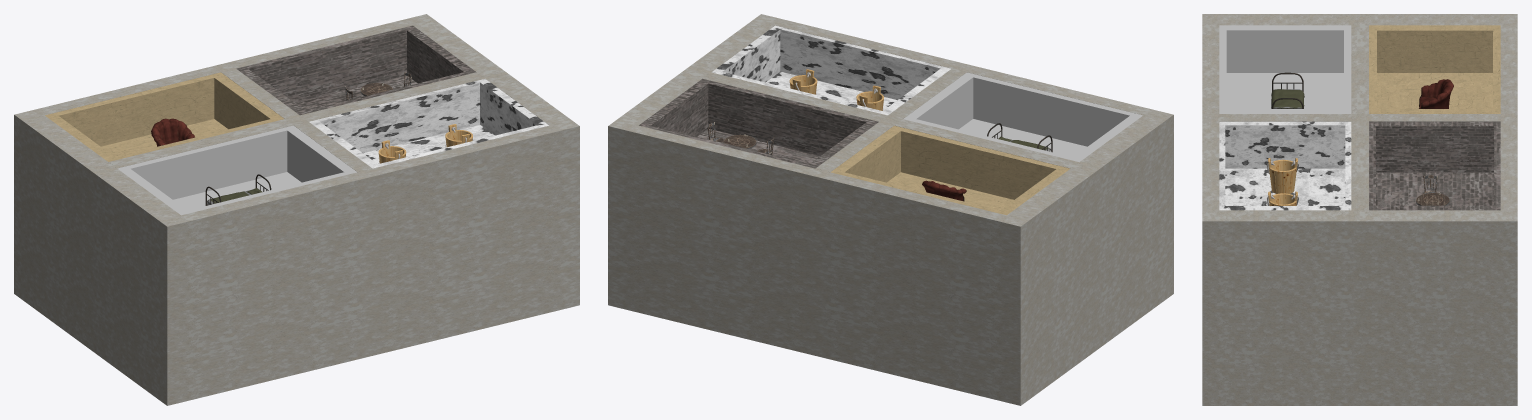
File: FULL-ROOM_23-10.gltf
3 views of the same model, side by side, from view 1: azimuth 30°, elevation 25°; view 2: azimuth 150°, elevation 25°; view 3: azimuth 270°, elevation 25° (orthographic). The views are drawn at different scales.
Visible parts, largest first — view 1: Cube, Cube.001, Cube.004, Cube.002, Cube.003, Sofa020_001_Sofa020_0, Object_0; view 2: Cube, Cube.004, Cube.001, Cube.003, Cube.002, Sofa020_001_Sofa020_0; view 3: Cube, Cube.001, Cube.004, Cube.003, Cube.002, WoodenBucket_WoodenBucket_0, Object_0, Sofa020_001_Sofa020_0, WoodenBucket_WoodenBucket_0.001, kolco_low_001__0.
Part boxes in pixels (left/top/right/bottom): Cube: left=14, top=14, right=579, bottom=405; Cube.001: left=236, top=25, right=475, bottom=115; Cube.004: left=117, top=125, right=356, bottom=215; Cube.002: left=309, top=78, right=548, bottom=168; Cube.003: left=45, top=72, right=283, bottom=161; Sofa020_001_Sofa020_0: left=151, top=118, right=194, bottom=146; Object_0: left=205, top=174, right=271, bottom=205; Cube: left=608, top=14, right=1173, bottom=405; Cube.004: left=903, top=72, right=1142, bottom=162; Cube.001: left=639, top=79, right=878, bottom=168; Cube.003: left=831, top=125, right=1069, bottom=215; Cube.002: left=711, top=25, right=951, bottom=115; Sofa020_001_Sofa020_0: left=922, top=180, right=966, bottom=201; Cube: left=1202, top=14, right=1517, bottom=405; Cube.001: left=1369, top=121, right=1500, bottom=210; Cube.004: left=1219, top=25, right=1351, bottom=113; Cube.003: left=1369, top=25, right=1500, bottom=113; Cube.002: left=1219, top=121, right=1351, bottom=210; WoodenBucket_WoodenBucket_0: left=1267, top=158, right=1298, bottom=193; Object_0: left=1271, top=72, right=1304, bottom=108; Sofa020_001_Sofa020_0: left=1419, top=79, right=1453, bottom=108; WoodenBucket_WoodenBucket_0.001: left=1267, top=191, right=1298, bottom=205; kolco_low_001__0: left=1416, top=192, right=1449, bottom=205.
Size of the model in its own units: 4.82 by 2 by 3.1.
